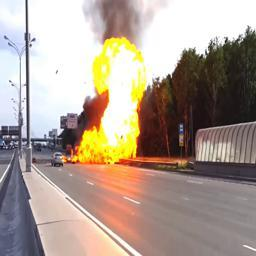fire: (64, 37, 144, 165)
